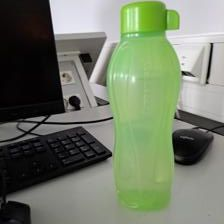bottle: (104, 1, 183, 213)
